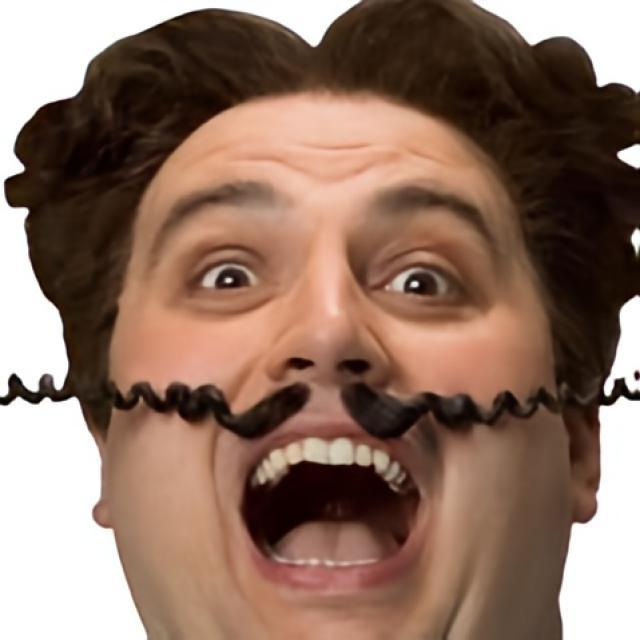surprise: (101, 89, 570, 640)
